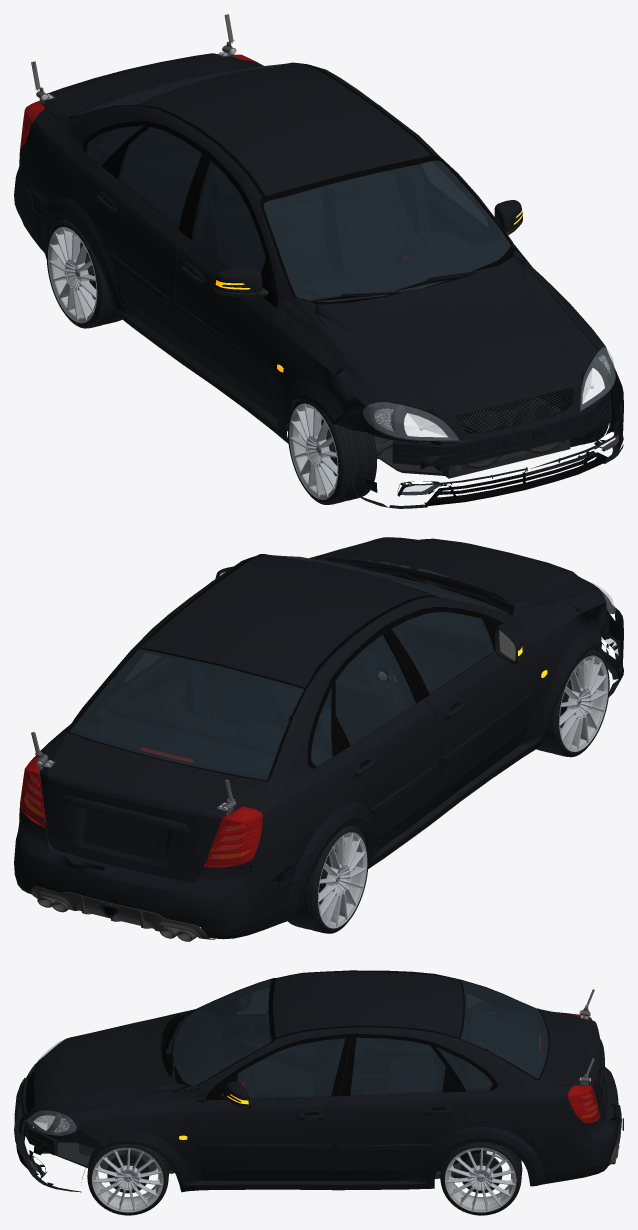
The model's file is gentra.glb.
The picture shows the model from 3 angles, top to bottom: view 1: azimuth 30°, elevation 25°; view 2: azimuth 150°, elevation 25°; view 3: azimuth 270°, elevation 25°; orthographic projection. The views are drawn at different scales.
Visible parts, largest first — view 1: primary, glass.004, chassis.6, chassis.5, chassis.7, chassis.0, Wheel_FR, Wheel_RR, chassis.9, glass.003, chassis.4, Faralar_on.0; view 2: primary, chassis.0, chassis.7, chassis.5, glass.004, chassis.6, Wheel_RR, Wheel_FR, chassis.11, glass, bumper_r.4, chassis.4; view 3: primary, glass.004, chassis.0, chassis.7, chassis.5, chassis.6, Wheel_RL, Wheel_FL, chassis.11, chassis.4, chassis.9, glass.003 (+1 smaller).
Part boxes in pixels (<box>): primary: <box>14,53,623,508</box>; glass.004: <box>192,160,510,301</box>; chassis.6: <box>133,82,496,301</box>; chassis.5: <box>68,62,615,506</box>; chassis.7: <box>71,74,512,301</box>; chassis.0: <box>70,63,301,229</box>; Wheel_FR: <box>288,398,376,504</box>; Wheel_RR: <box>46,219,121,328</box>; chassis.9: <box>99,143,570,478</box>; glass.003: <box>363,347,618,494</box>; chassis.4: <box>31,123,615,440</box>; Faralar_on.0: <box>404,368,604,437</box>; primary: <box>14,537,623,939</box>; chassis.0: <box>69,634,415,779</box>; chassis.7: <box>75,580,490,754</box>; chassis.5: <box>67,554,615,814</box>; glass.004: <box>270,555,508,693</box>; chassis.6: <box>115,558,513,764</box>; Wheel_RR: <box>288,825,368,933</box>; Wheel_FR: <box>536,649,609,757</box>; chassis.11: <box>78,669,453,780</box>; glass: <box>20,756,263,867</box>; bumper_r.4: <box>31,886,215,941</box>; chassis.4: <box>62,576,615,831</box>; primary: <box>14,970,618,1192</box>; glass.004: <box>172,980,345,1098</box>; chassis.0: <box>350,980,548,1095</box>; chassis.7: <box>173,980,545,1097</box>; chassis.5: <box>16,971,549,1175</box>; chassis.6: <box>165,1011,540,1095</box>; Wheel_RL: <box>440,1142,522,1215</box>; Wheel_FL: <box>87,1144,169,1215</box>; chassis.11: <box>181,1013,543,1087</box>; chassis.4: <box>23,1027,604,1135</box>; chassis.9: <box>34,1012,495,1178</box>; glass.003: <box>27,1040,76,1171</box>.
Size of the model in its own units: 1.89 by 1.41 by 4.51.
